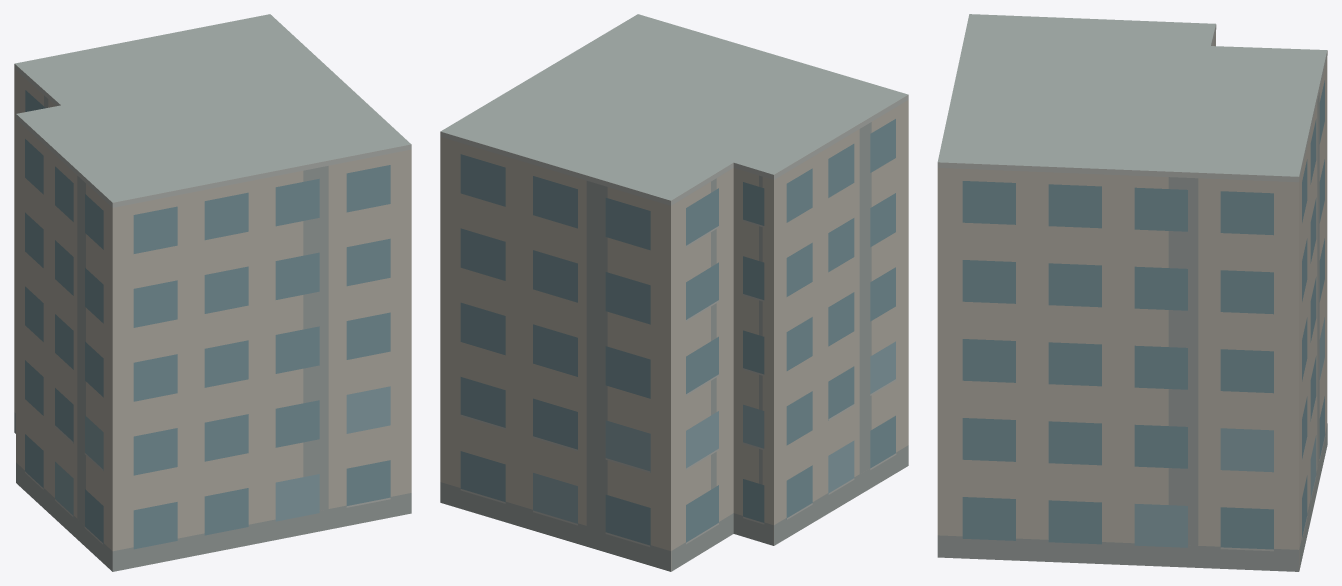
Rendered from survey-upis-32994817.glb.
3 renders of one model, left to right at view 1: azimuth 30°, elevation 25°; view 2: azimuth 150°, elevation 25°; view 3: azimuth 270°, elevation 25°, orthographic. The views are drawn at different scales.
Parts seen in each view (by area): view 1: survey-upis-32994817.tmp; view 2: survey-upis-32994817.tmp; view 3: survey-upis-32994817.tmp.
Boxes of the visible parts, <box> form: survey-upis-32994817.tmp: <box>14,14,411,571</box>; survey-upis-32994817.tmp: <box>440,14,908,571</box>; survey-upis-32994817.tmp: <box>937,14,1327,571</box>.
Size of the model in its own units: 15.47 by 17.5 by 15.66.
